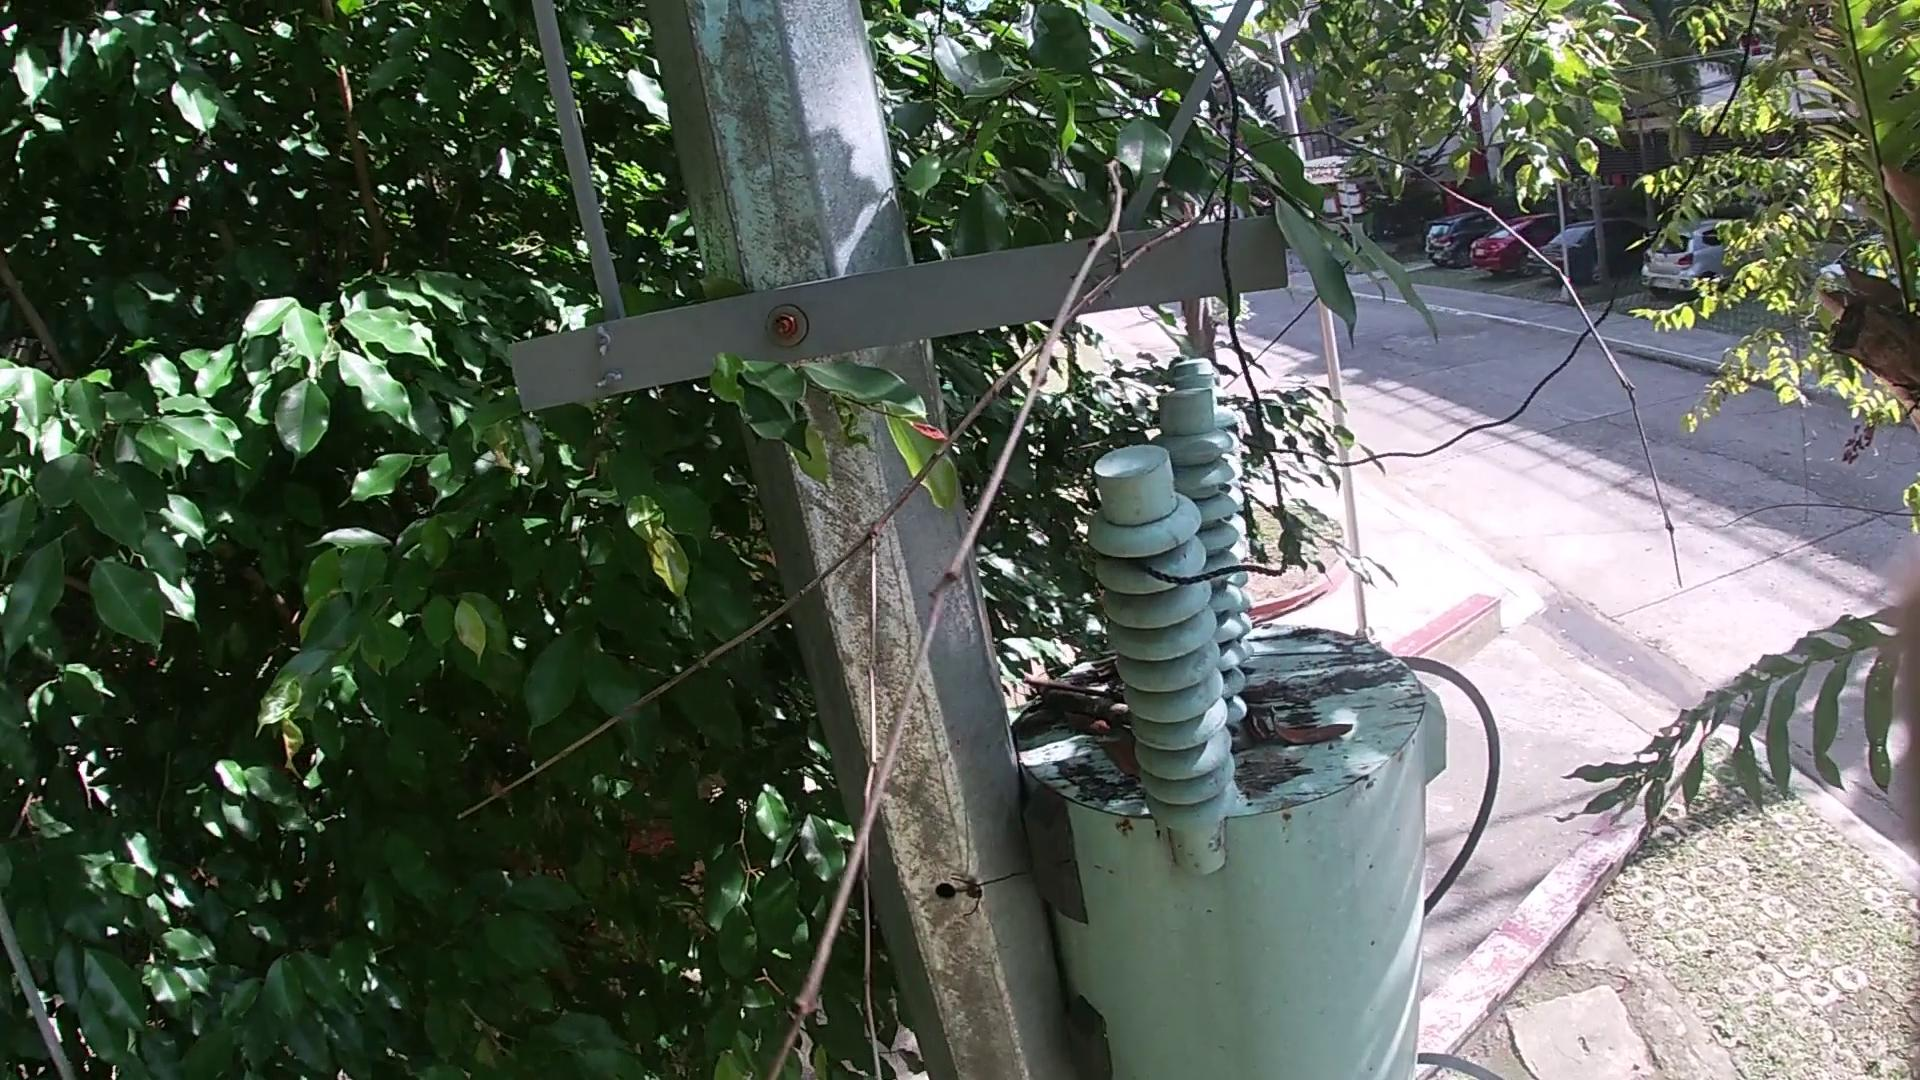leaf: (1267, 702, 1358, 750), (1091, 732, 1145, 785), (1062, 709, 1112, 738)
tree branch: (448, 120, 1698, 1079), (1017, 674, 1137, 731), (1251, 585, 1332, 626)
